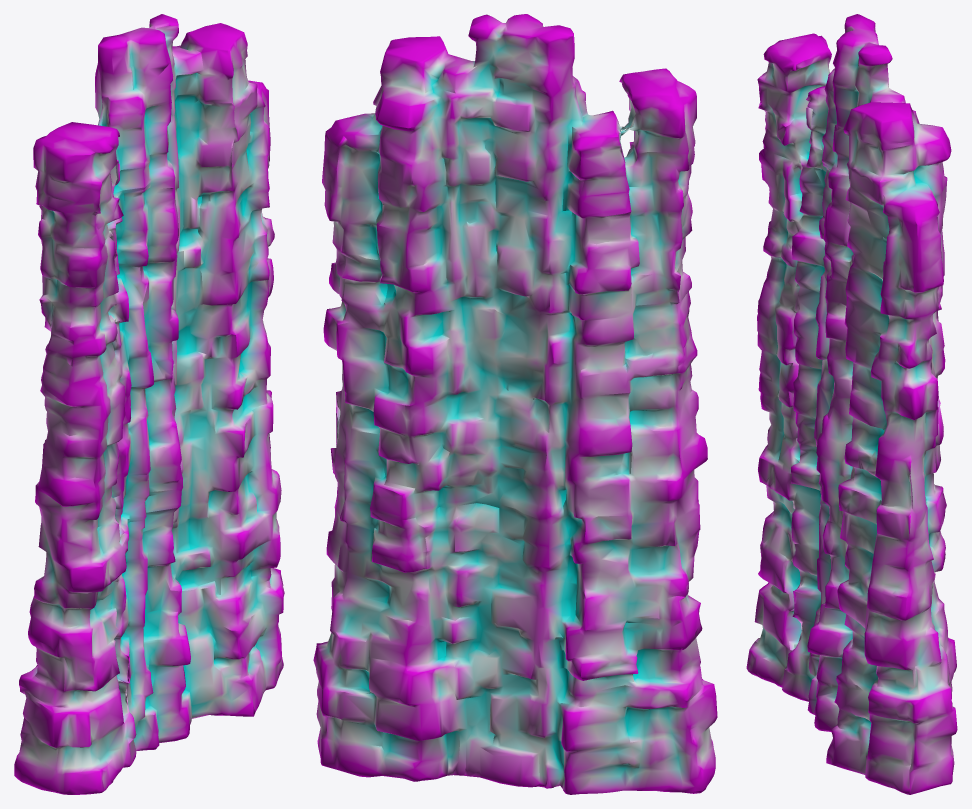
Rendered from Macico_3_Longe.fbx.
The picture shows the model from 3 angles, left to right: view 1: azimuth 30°, elevation 25°; view 2: azimuth 150°, elevation 25°; view 3: azimuth 270°, elevation 25°; orthographic projection. The views are drawn at different scales.
Visible parts, largest first — view 1: Macico_3_Longe; view 2: Macico_3_Longe; view 3: Macico_3_Longe.
Boxes of the visible parts, bbox=[...] form: Macico_3_Longe: bbox=[14, 14, 284, 794]; Macico_3_Longe: bbox=[313, 14, 717, 794]; Macico_3_Longe: bbox=[746, 14, 957, 794].
Size of the model in its own units: 156 by 331 by 91.86.
